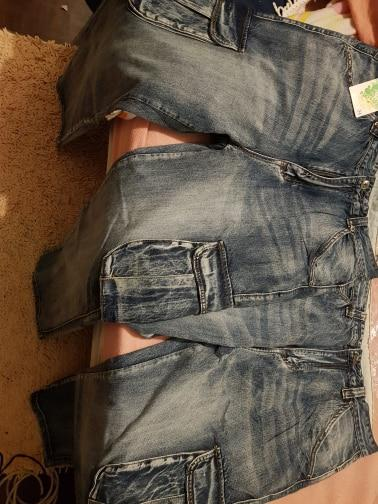jeans: (69, 14, 377, 317), (70, 285, 378, 503)
